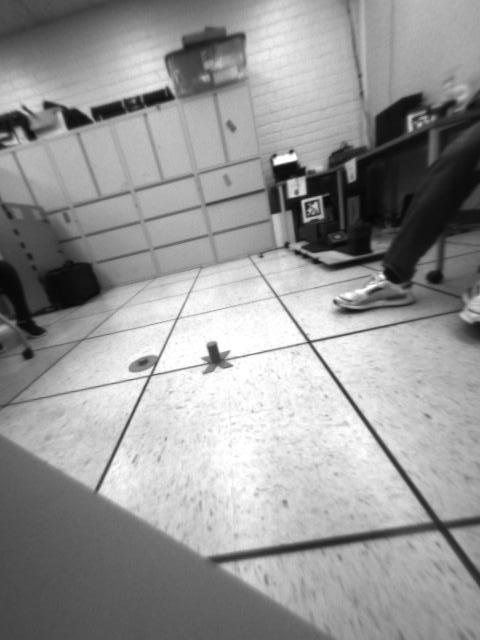X: (201, 341, 232, 373)
